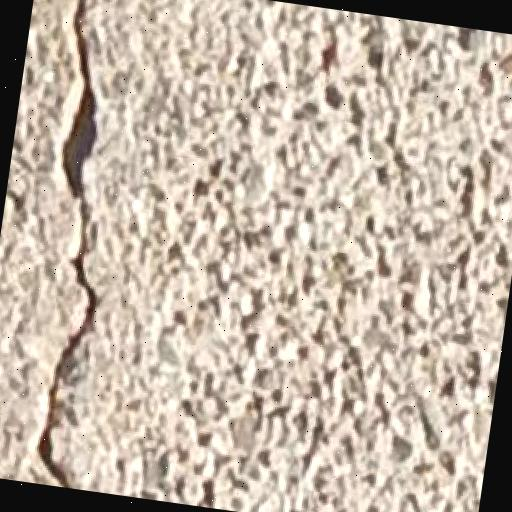spalling: (6, 0, 115, 484)
